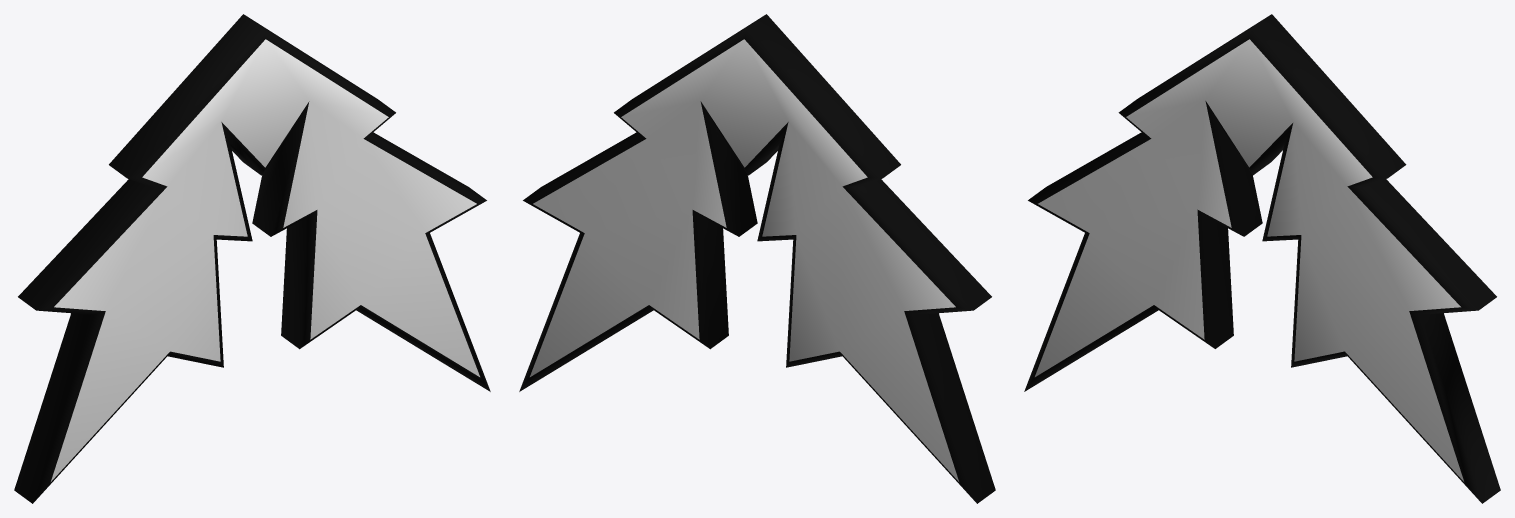
The model's file is Pats_SarrowEdit.fbx.
3 views of the same model, side by side, from view 1: azimuth 30°, elevation 25°; view 2: azimuth 150°, elevation 25°; view 3: azimuth 330°, elevation 25° (orthographic).
Parts seen in each view (by area): view 1: pCube4; view 2: pCube4; view 3: pCube4.
Boxes of the visible parts, x1,y1,x2,y2 form: pCube4: (14,14,490,503); pCube4: (519,14,995,503); pCube4: (1024,14,1500,503).
Bounding box in the file's own units: 177 × 155 × 17.41.
1 material, 1 textured.
